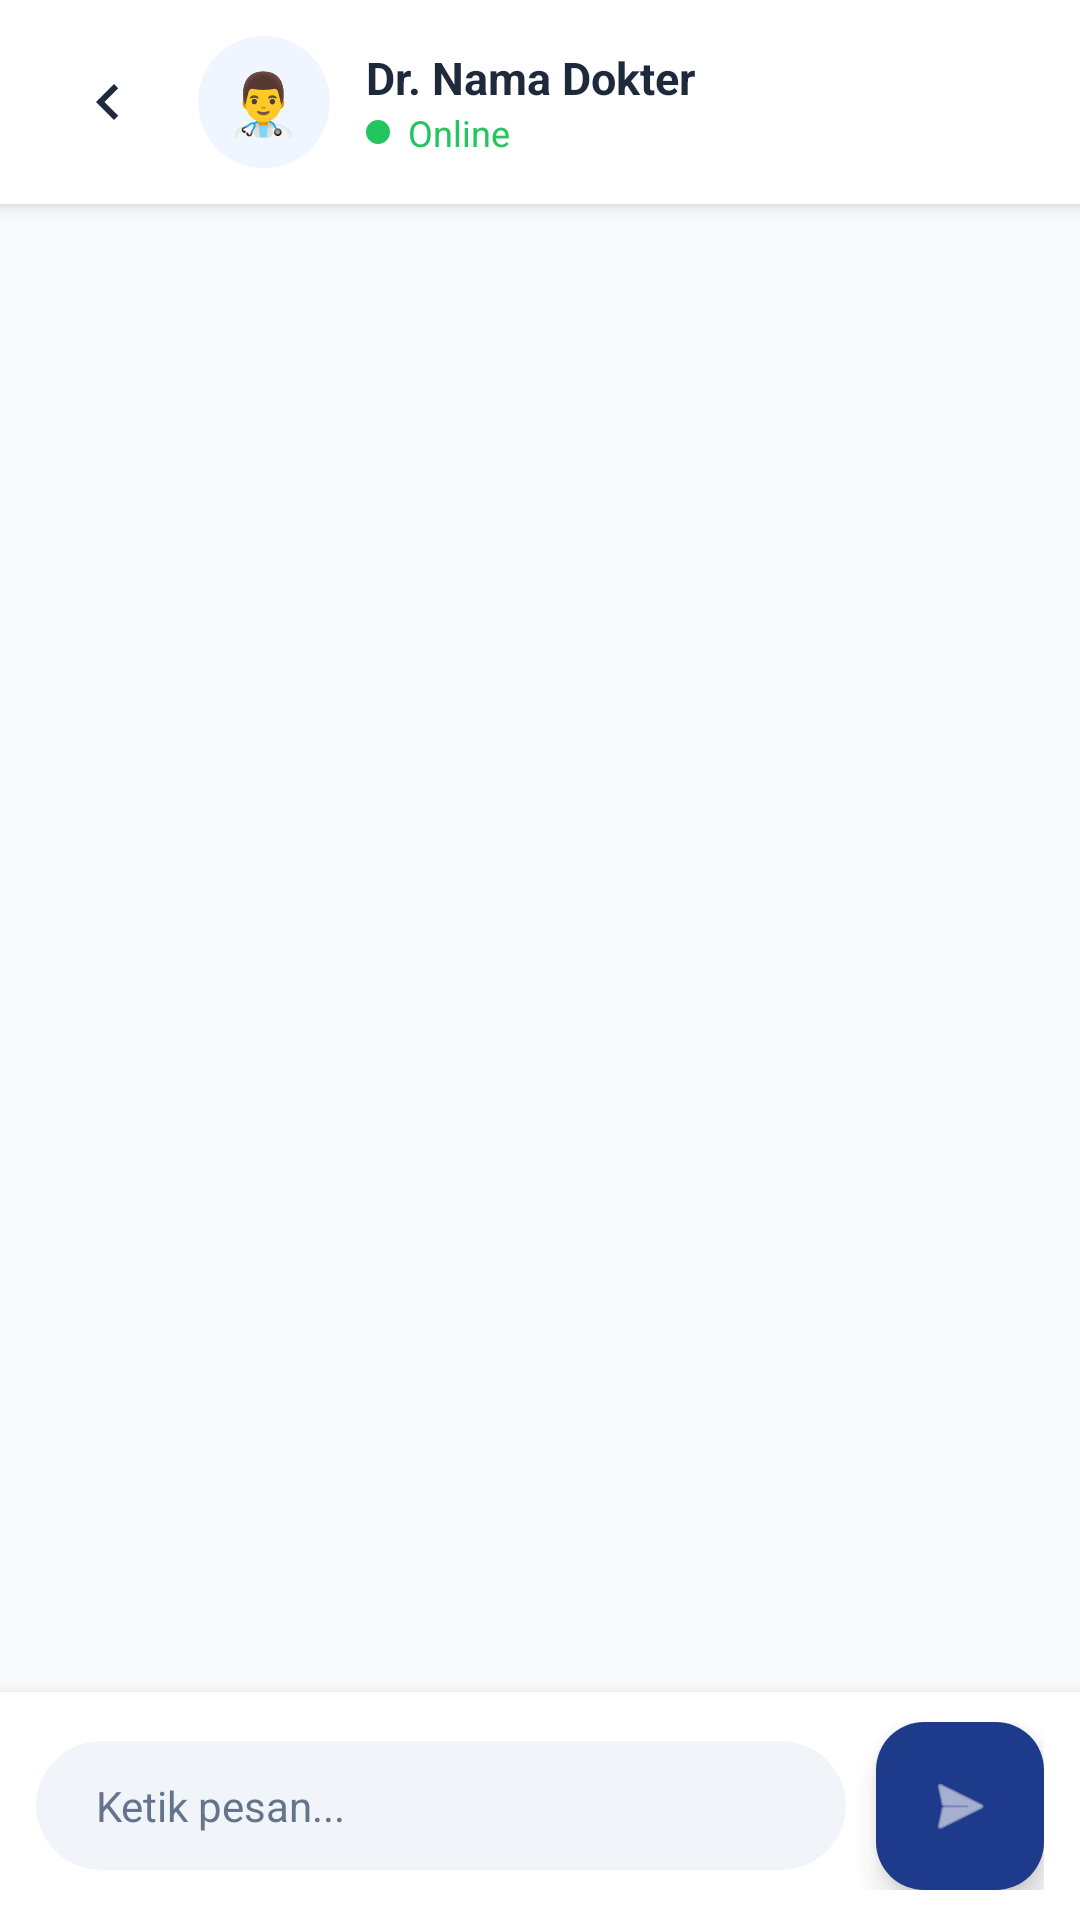

Named icons in this screenshot (1080 × 1920) and their centers, (x,y):
Kirim Pesan: (960,1806)
